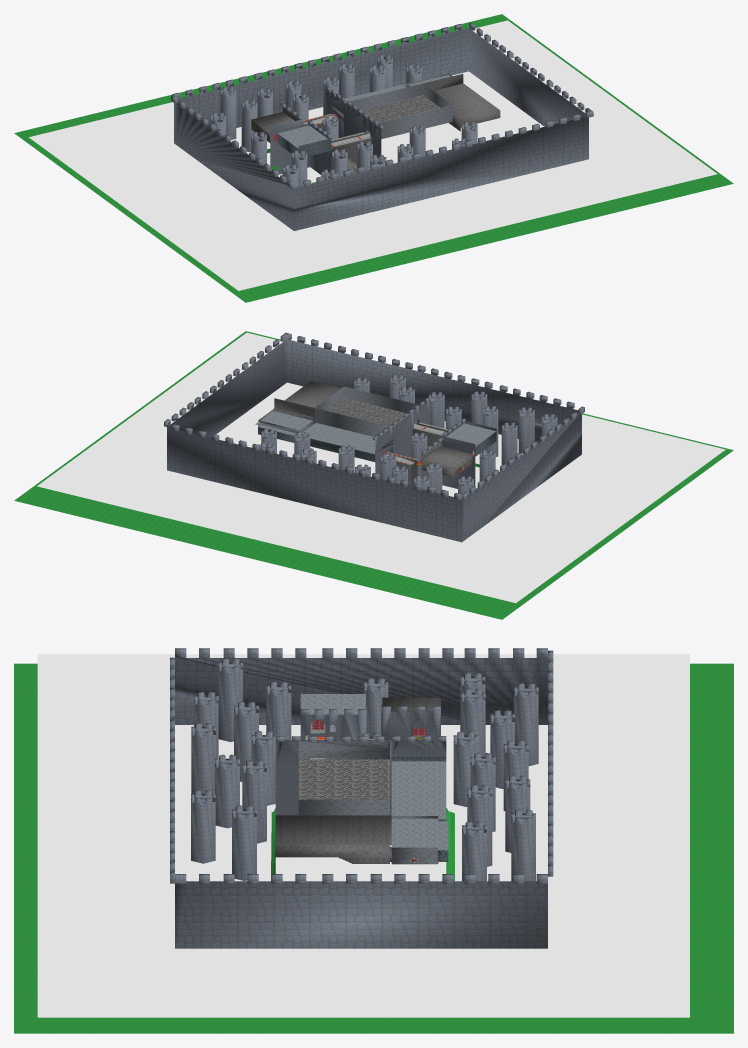
The picture shows the model from 3 angles, top to bottom: view 1: azimuth 30°, elevation 25°; view 2: azimuth 150°, elevation 25°; view 3: azimuth 270°, elevation 25°; orthographic projection. The views are drawn at different scales.
Visible parts, largest first — view 1: Untitled-SKP--Material12.027, Untitled-SKP--Material12.000, Untitled-SKP--Material12.006, Untitled-SKP--Material12.022, Untitled-SKP--Material12.021, Untitled-SKP--Material12.013, Untitled-SKP--Material12.008; view 2: Untitled-SKP--Material12.027, Untitled-SKP--Material12.000, Untitled-SKP--Material12.006, Untitled-SKP--Material12.022, Untitled-SKP--Material12.021, Untitled-SKP--Material12.013, Untitled-SKP--Material12.008; view 3: Untitled-SKP--Material12.027, Untitled-SKP--Material12.000, Untitled-SKP--Material12.006, Untitled-SKP--Material12.022, Untitled-SKP--Material12.021, Untitled-SKP--Material12.013.
Boxes of the visible parts, box(x1,y1,x2,y2) form: Untitled-SKP--Material12.027: box(29, 20, 717, 290); Untitled-SKP--Material12.000: box(171, 22, 593, 230); Untitled-SKP--Material12.006: box(14, 14, 733, 302); Untitled-SKP--Material12.022: box(278, 72, 452, 148); Untitled-SKP--Material12.021: box(251, 74, 500, 173); Untitled-SKP--Material12.013: box(361, 95, 440, 134); Untitled-SKP--Material12.008: box(277, 83, 406, 156); Untitled-SKP--Material12.027: box(37, 332, 725, 603); Untitled-SKP--Material12.000: box(164, 332, 584, 542); Untitled-SKP--Material12.006: box(14, 331, 733, 619); Untitled-SKP--Material12.022: box(255, 386, 496, 456); Untitled-SKP--Material12.021: box(274, 381, 472, 487); Untitled-SKP--Material12.013: box(326, 398, 417, 425); Untitled-SKP--Material12.008: box(258, 421, 496, 461); Untitled-SKP--Material12.027: box(37, 654, 689, 1017); Untitled-SKP--Material12.000: box(170, 648, 553, 948); Untitled-SKP--Material12.006: box(14, 663, 733, 1033); Untitled-SKP--Material12.022: box(298, 694, 448, 864); Untitled-SKP--Material12.021: box(275, 697, 440, 863); Untitled-SKP--Material12.013: box(298, 759, 389, 799).
Bounding box in the file's own units: 198292 × 26025 × 163080.
Materials: 28 (27 with a texture image).
